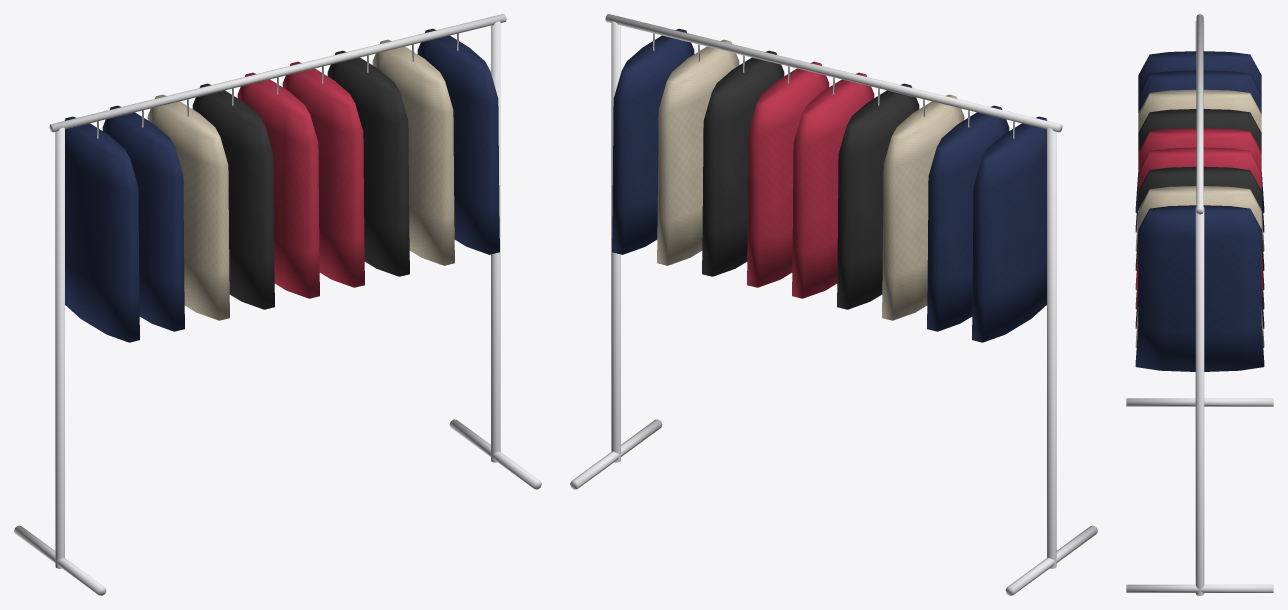
File: clothes_rack.glb
3 views of the same model, side by side, from view 1: azimuth 30°, elevation 25°; view 2: azimuth 150°, elevation 25°; view 3: azimuth 270°, elevation 25° (orthographic). The views are drawn at different scales.
Parts seen in each view (by area): view 1: ClothesRack; view 2: ClothesRack; view 3: ClothesRack.
Part boxes in pixels (left/top/right/bottom): ClothesRack: left=14, top=14, right=541, bottom=595; ClothesRack: left=570, top=14, right=1097, bottom=595; ClothesRack: left=1126, top=14, right=1273, bottom=595.
Size of the model in its own units: 1.56 by 1.46 by 0.5.
Materials: 5 (4 with a texture image).
